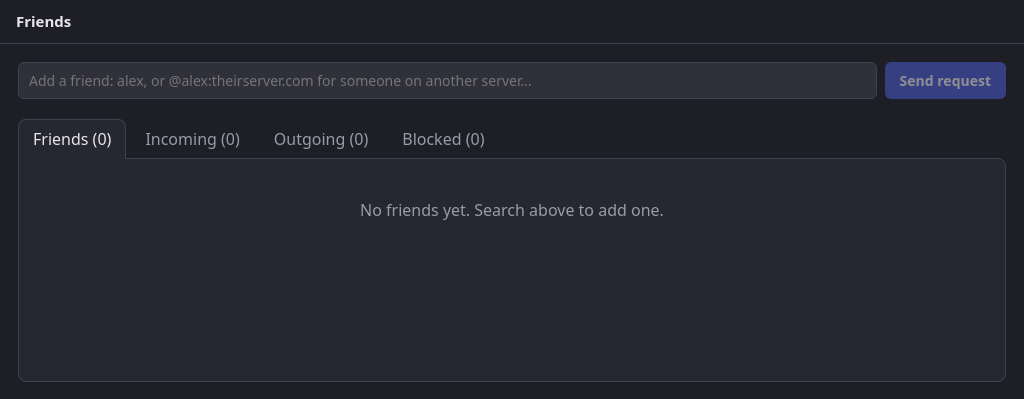
Scenario: the add-a-friend search results › closes the list when adding fails with blocked
Step 1. Replace the text in the dropdown with "bo" → x=447, y=80, box [18,62,877,99]
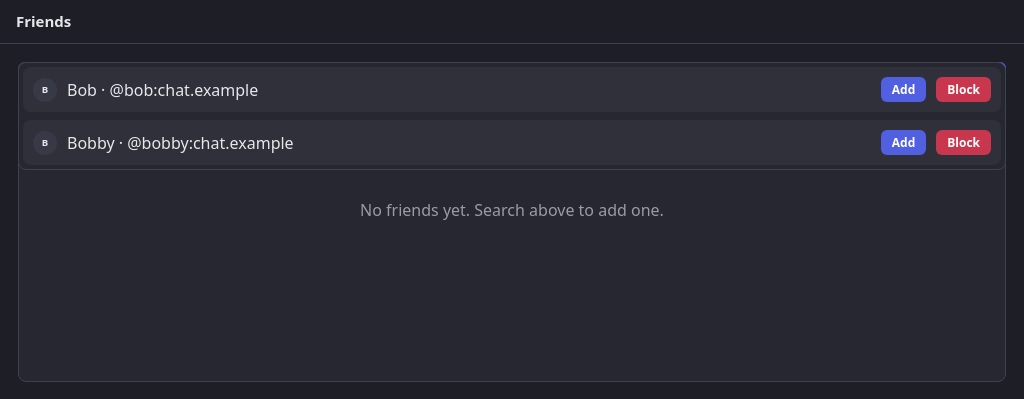
Now the text "Bob · @bob:chat.example" is shown, box [67,78,258,100]
Step 2. Click the button "Add" in the row of "@bob:chat.example" → x=904, y=90, box [881,77,926,102]
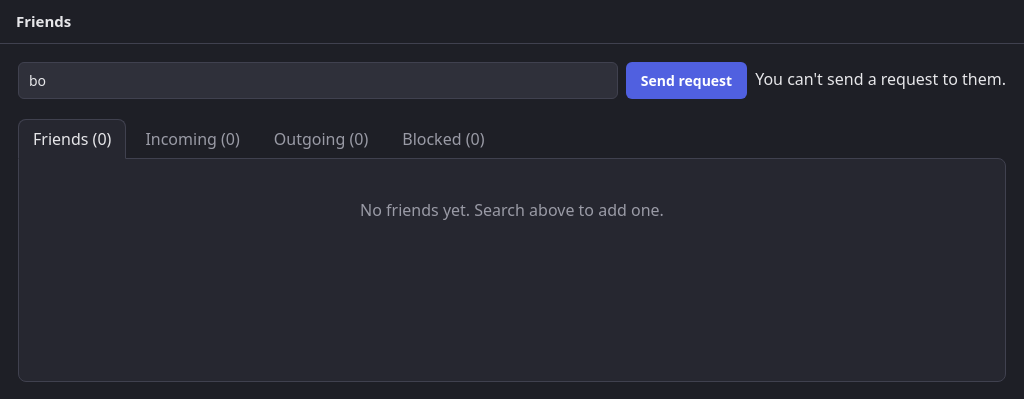
Now the text "You can't send a request to them." is shown, box [755,68,1006,99]
Now the text "Bob · @bob:chat.example" is gone
